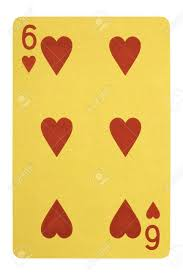six of hearts: (13, 18, 170, 258)
